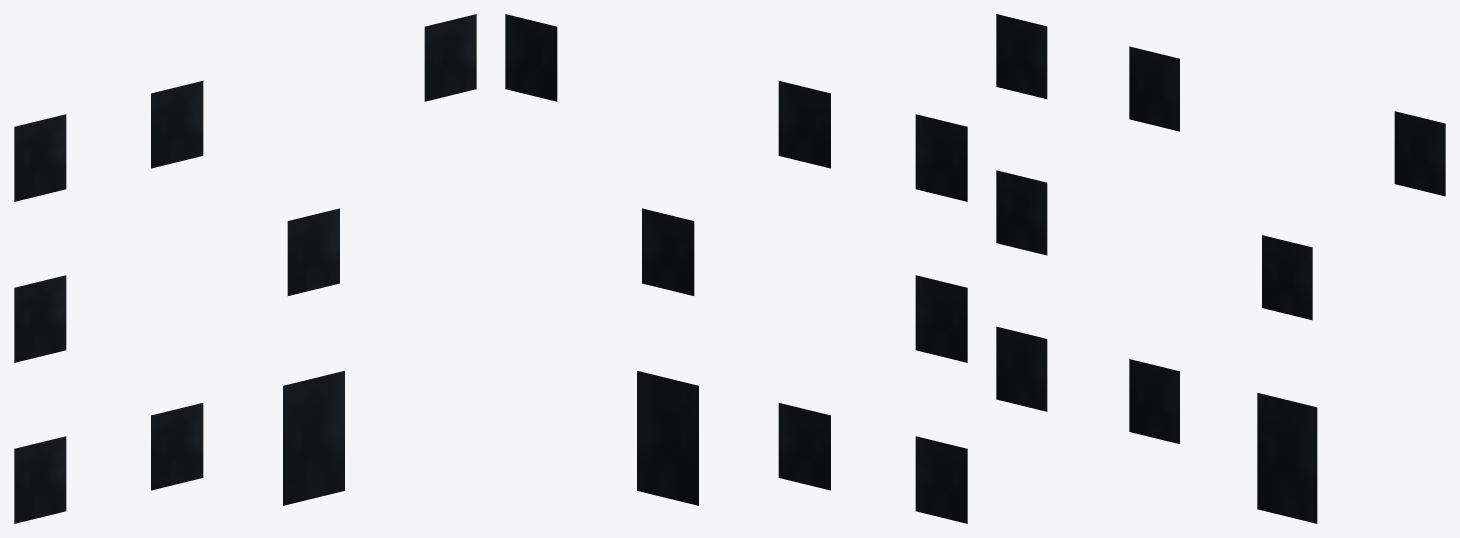
Rendered from Street_BlockL1_Glass.obj.
3 views of the same model, side by side, from view 1: azimuth 30°, elevation 25°; view 2: azimuth 150°, elevation 25°; view 3: azimuth 330°, elevation 25° (orthographic). The views are drawn at different scales.
Bounding box in the file's own units: 9.47 × 8.7 × 0.
Materials: 1 (1 with a texture image).
